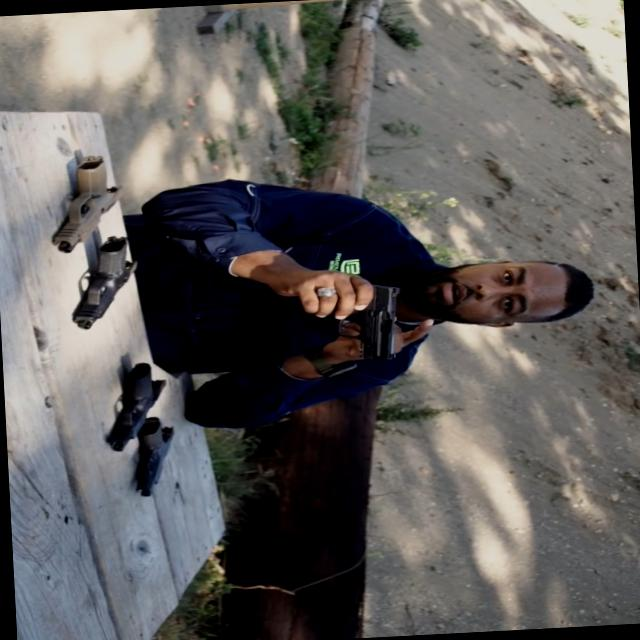handgun: (290, 264, 412, 380), (31, 145, 135, 258), (52, 227, 144, 341), (87, 348, 174, 463), (121, 404, 195, 504)
